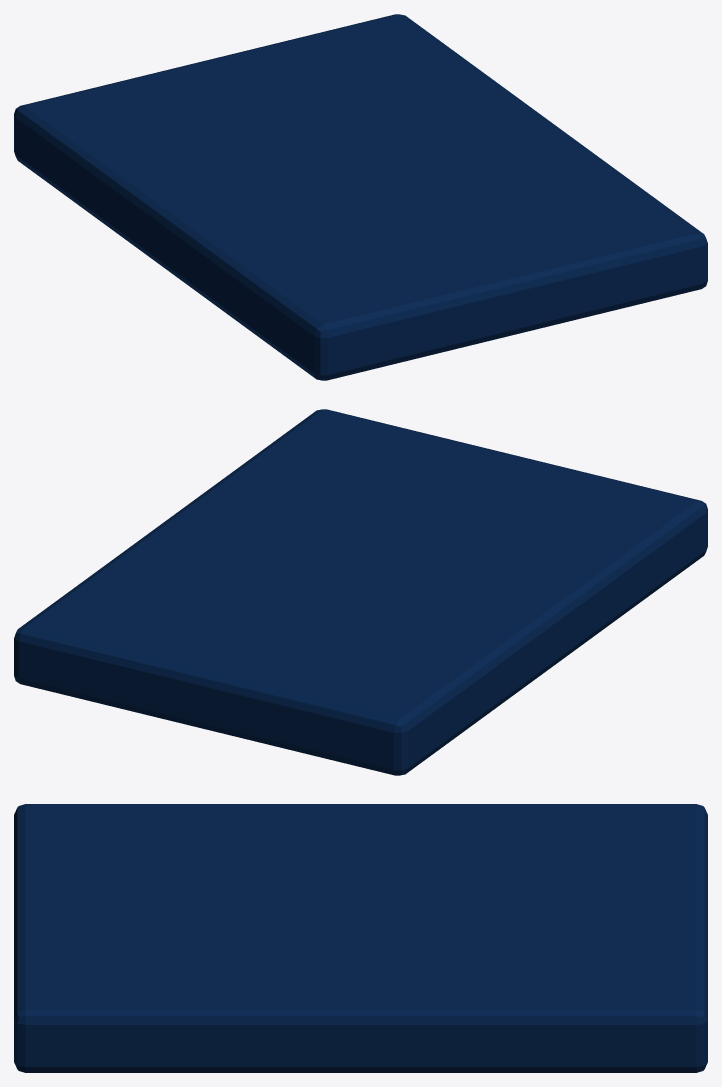
Rendered from Book.fbx.
The picture shows the model from 3 angles, top to bottom: view 1: azimuth 30°, elevation 25°; view 2: azimuth 150°, elevation 25°; view 3: azimuth 270°, elevation 25°; orthographic projection. The views are drawn at different scales.
Visible parts, largest first — view 1: Book; view 2: Book; view 3: Book.
Part boxes in pixels (left/top/right/bottom): Book: left=14, top=14, right=707, bottom=380; Book: left=14, top=409, right=707, bottom=775; Book: left=14, top=804, right=707, bottom=1072.
Bounding box in the file's own units: 22 × 30 × 3.
